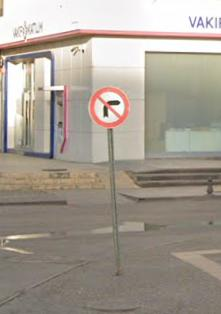rightturnsareforbidden: (88, 87, 130, 128)
